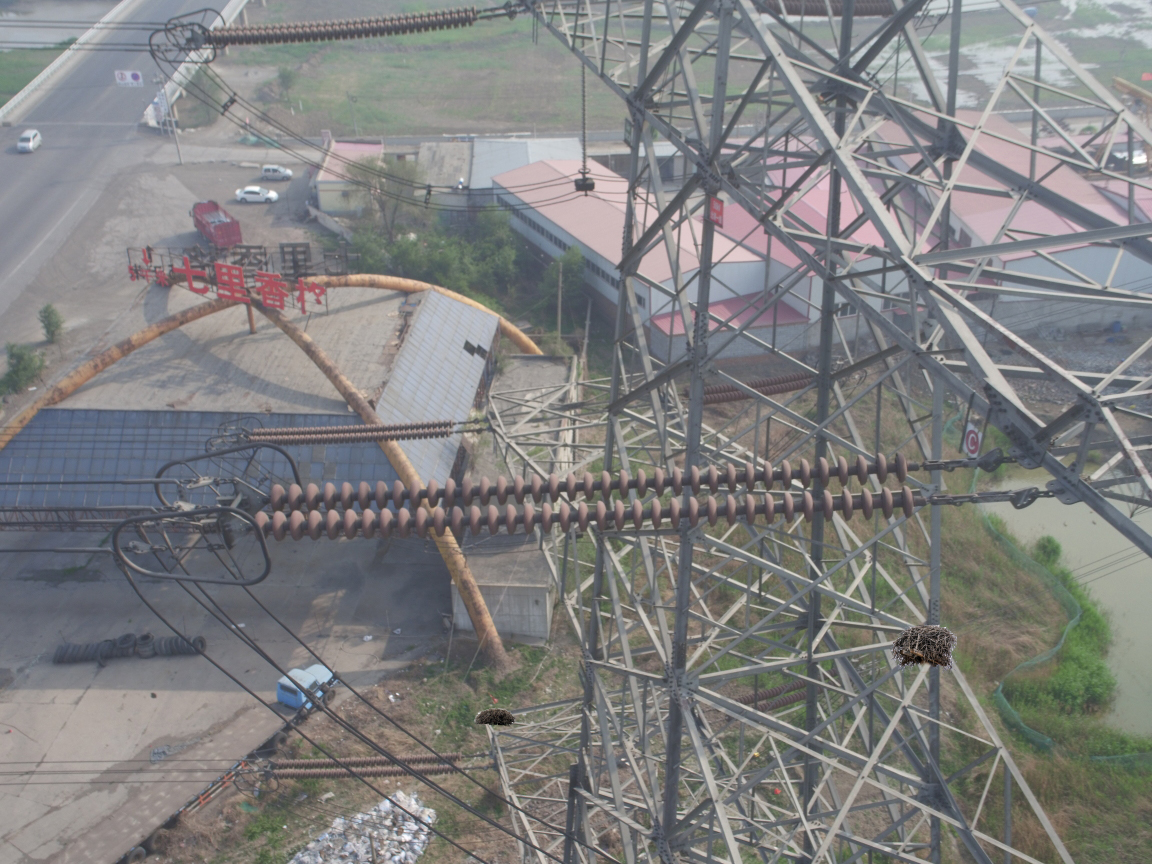nest: (888, 619, 960, 670), (471, 703, 517, 730)
